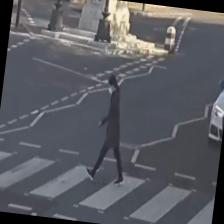person: (84, 72, 136, 186)
